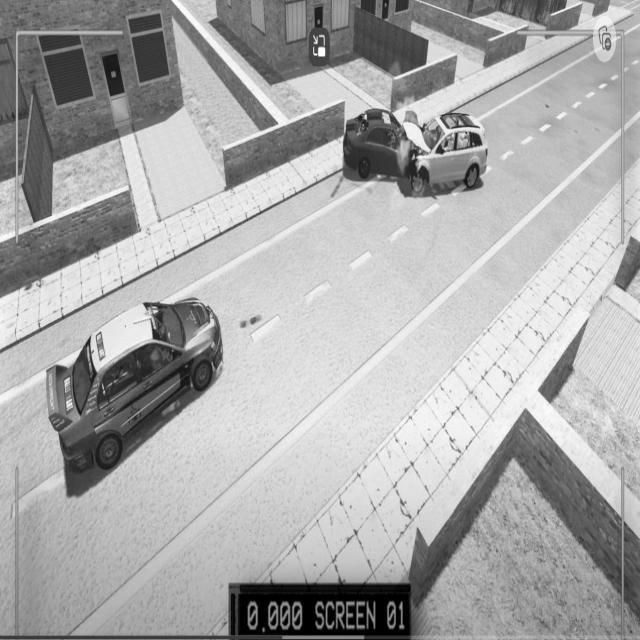accident: (341, 101, 490, 201)
vehicle: (45, 290, 225, 485)
